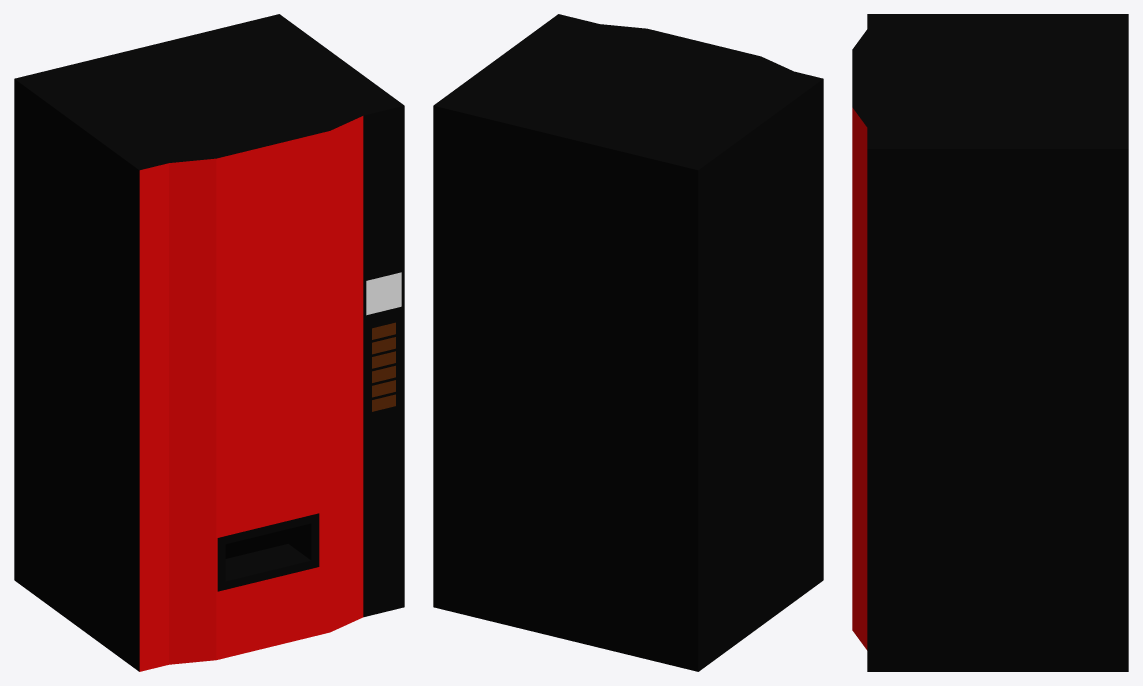
Rendered from Vendor.fbx.
3 renders of one model, left to right at view 1: azimuth 30°, elevation 25°; view 2: azimuth 150°, elevation 25°; view 3: azimuth 270°, elevation 25°, orthographic. The views are drawn at different scales.
Visible parts, largest first — view 1: Cube; view 2: Cube; view 3: Cube.
Part boxes in pixels (left/top/right/bottom): Cube: left=14, top=14, right=404, bottom=671; Cube: left=433, top=14, right=823, bottom=671; Cube: left=852, top=14, right=1128, bottom=671.
Bounding box in the file's own units: 111 × 200 × 95.68.
